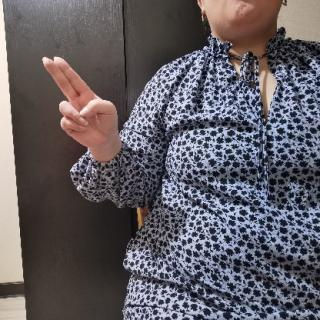TA: (39, 54, 123, 162)
